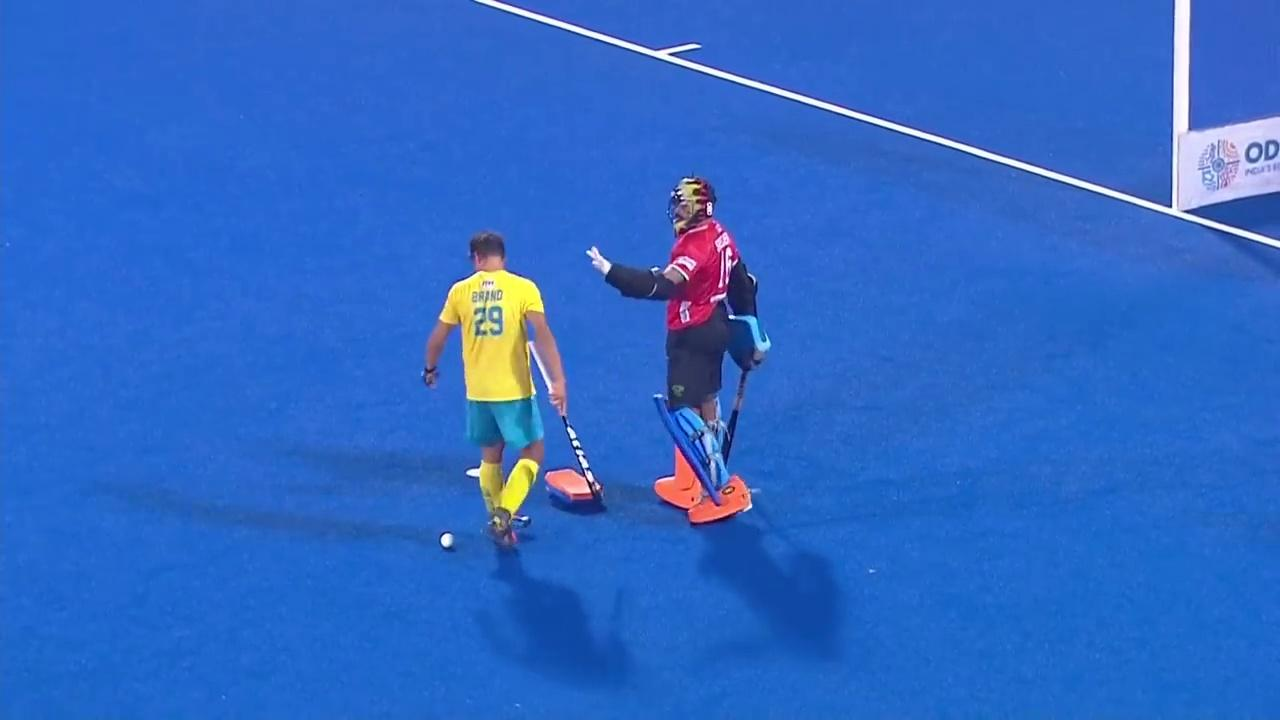ball: (435, 519, 466, 554)
